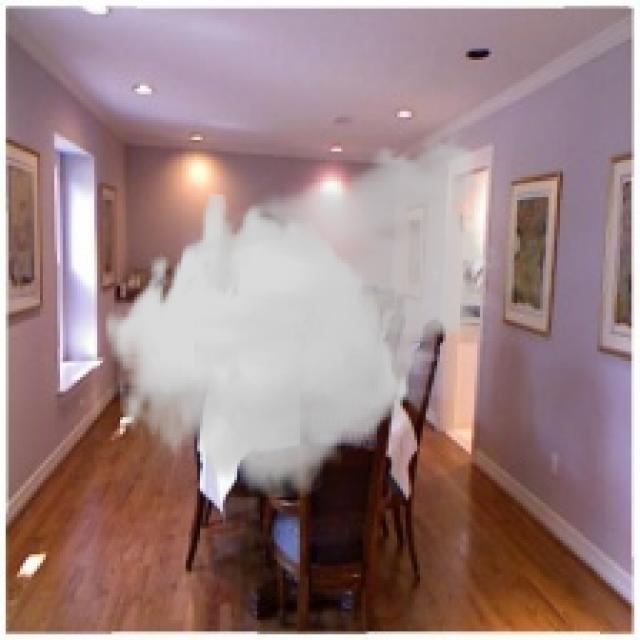smoke: (103, 123, 503, 497)
